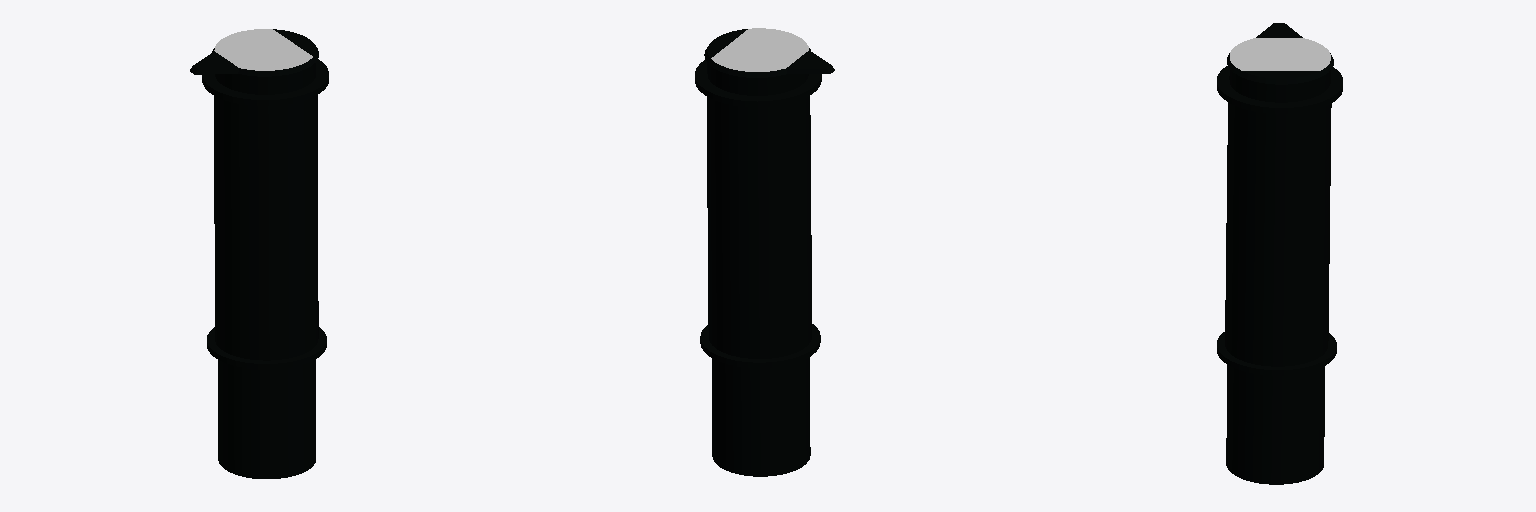
Rendered from psydsoc.obj.
The picture shows the model from 3 angles: view 1: azimuth 30°, elevation 25°; view 2: azimuth 150°, elevation 25°; view 3: azimuth 270°, elevation 25°; orthographic projection.
Parts seen in each view (by area): view 1: Cylinder.009; view 2: Cylinder.009; view 3: Cylinder.009.
Boxes of the visible parts, x1,y1,x2,y2 form: Cylinder.009: [190, 29, 328, 478]; Cylinder.009: [695, 28, 834, 476]; Cylinder.009: [1217, 23, 1342, 484].
Bounding box in the file's own units: 0.7187 × 2.17 × 0.6117.